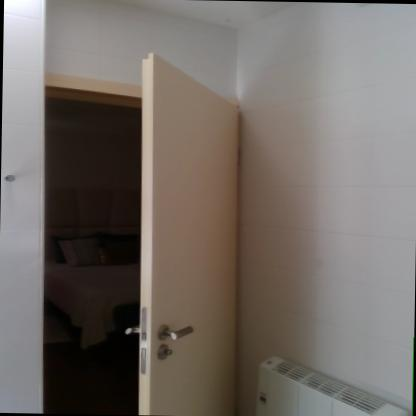semi: (43, 68, 237, 416)
